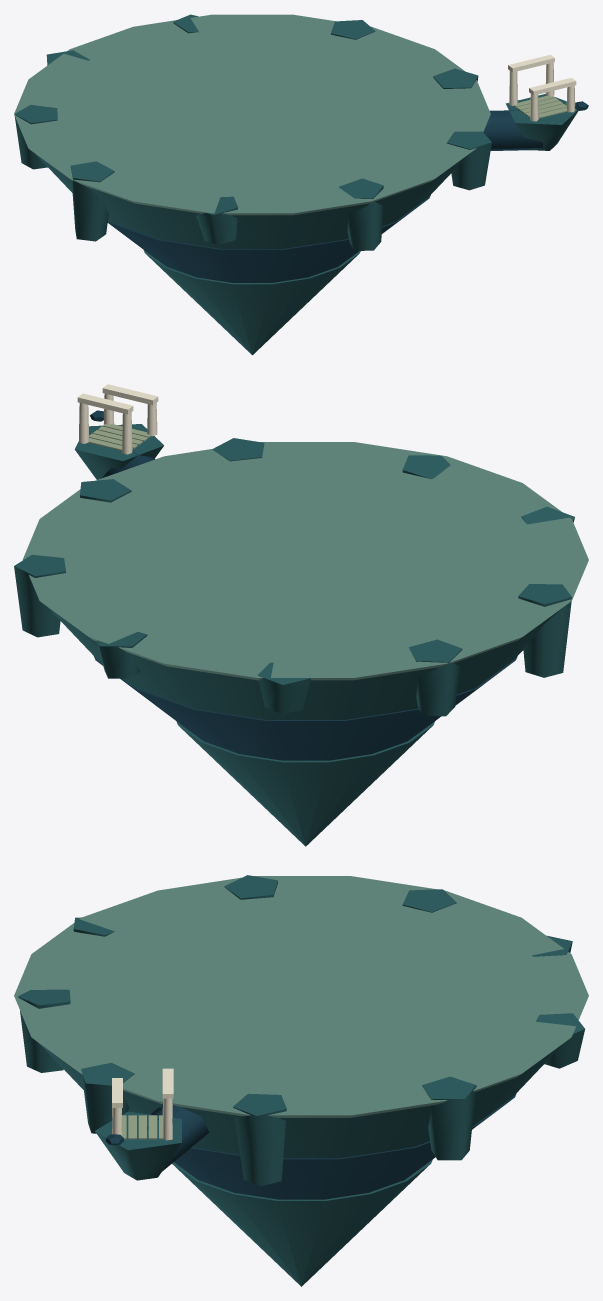
File: island-3-low.glb
3 views of the same model, one above another, from view 1: azimuth 30°, elevation 25°; view 2: azimuth 150°, elevation 25°; view 3: azimuth 270°, elevation 25° (orthographic). The views are drawn at different scales.
Visible parts, largest first — view 1: island-2-terrace-merged, teal-basalt-merged, deep-basalt-merged, chalk-sail-merged, mineral-sand-merged; view 2: island-2-terrace-merged, teal-basalt-merged, deep-basalt-merged, chalk-sail-merged, mineral-sand-merged; view 3: island-2-terrace-merged, teal-basalt-merged, deep-basalt-merged, chalk-sail-merged, mineral-sand-merged.
Boxes of the visible parts, left/top/right/bottom form: island-2-terrace-merged: left=14, top=14, right=490, bottom=215; teal-basalt-merged: left=14, top=14, right=578, bottom=355; deep-basalt-merged: left=107, top=101, right=588, bottom=282; chalk-sail-merged: left=508, top=54, right=576, bottom=121; mineral-sand-merged: left=514, top=96, right=567, bottom=118; island-2-terrace-merged: left=22, top=442, right=588, bottom=680; teal-basalt-merged: left=14, top=424, right=574, bottom=846; deep-basalt-merged: left=90, top=410, right=517, bottom=760; chalk-sail-merged: left=77, top=384, right=158, bottom=454; mineral-sand-merged: left=88, top=424, right=151, bottom=450; island-2-terrace-merged: left=14, top=876, right=588, bottom=1117; teal-basalt-merged: left=18, top=875, right=584, bottom=1286; deep-basalt-merged: left=106, top=1093, right=516, bottom=1199; chalk-sail-merged: left=112, top=1068, right=173, bottom=1140; mineral-sand-merged: left=121, top=1115, right=163, bottom=1139.
Bounding box in the file's own units: 75.92 × 44.02 × 68.
